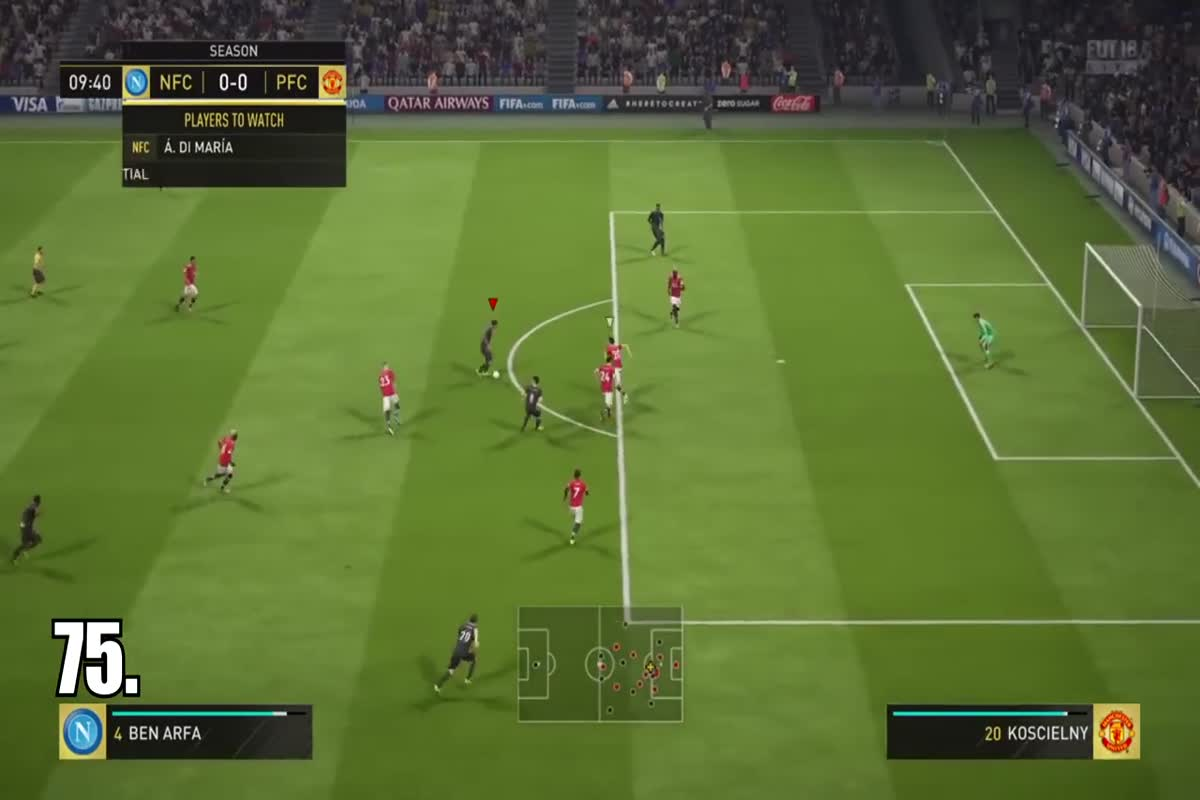ball: (485, 364, 506, 383)
